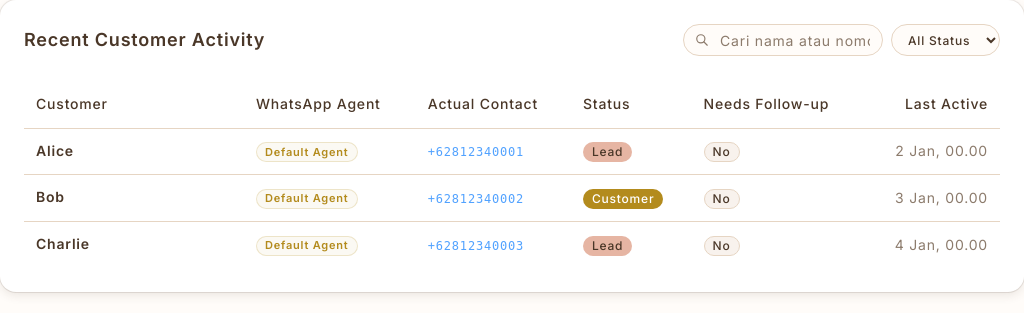
RecentActivityTable component › status filter works correctly
This screenshot has width=1024, height=313.
Expected: the text "Alice" is shown, [24,128,244,172]
Expected: the text "Bob" is shown, [24,175,244,219]
# Filter by 'customer' status — the status filter select has "All Status" as default
Select "Customer" in the dropdown showing "All Status": (946,40) [891,24,1000,56]
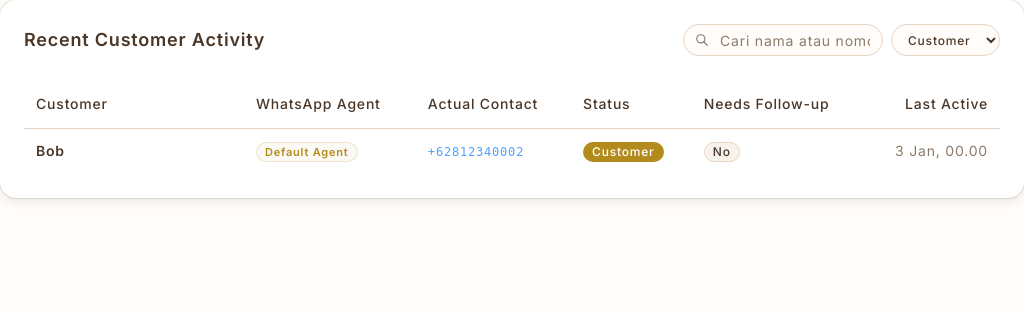
Expected: the text "Bob" is shown, [24,128,244,172]
Expected: the text "Alice" is gone
Expected: the text "Charlie" is gone
